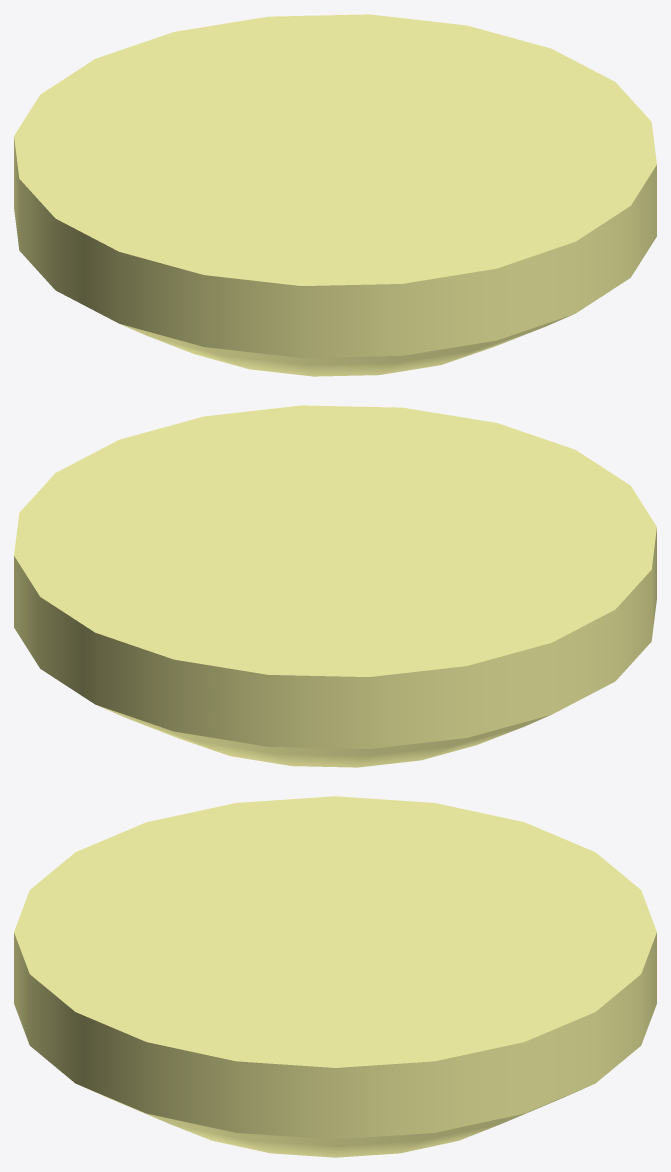
The model's file is Ceiling_Light.fbx.
3 views of the same model, one above another, from view 1: azimuth 30°, elevation 25°; view 2: azimuth 150°, elevation 25°; view 3: azimuth 270°, elevation 25° (orthographic).
Parts seen in each view (by area): view 1: pCylinder28; view 2: pCylinder28; view 3: pCylinder28.
Part boxes in pixels (<box>): pCylinder28: <box>14,14,656,376</box>; pCylinder28: <box>14,405,656,767</box>; pCylinder28: <box>14,796,656,1157</box>.
Size of the model in its own units: 1.07 by 0.2523 by 1.07.
